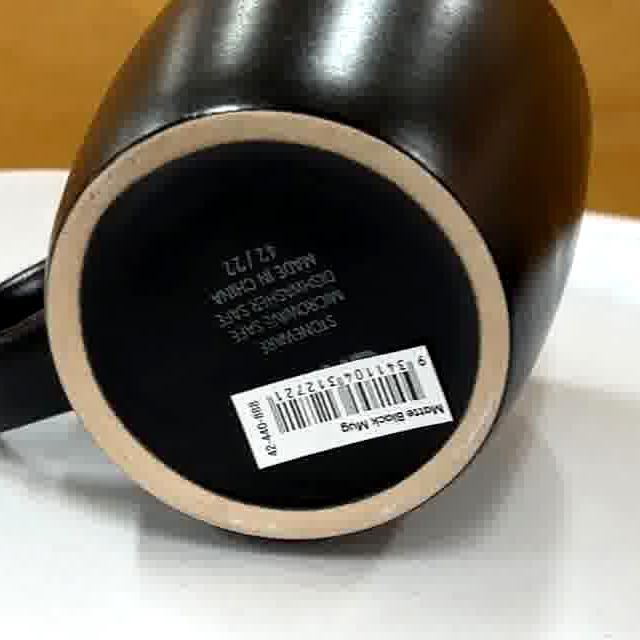cup: (0, 0, 614, 556)
